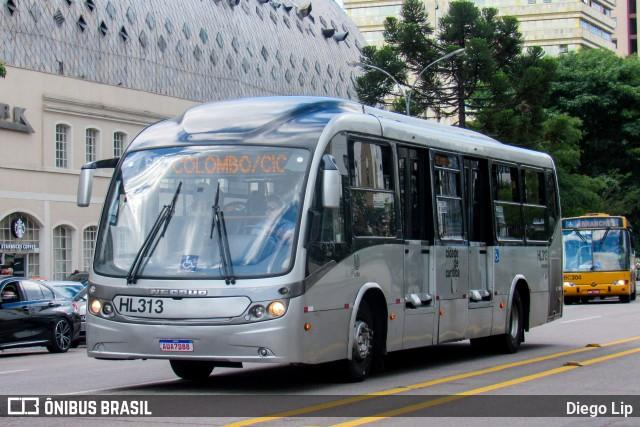COLOMBO CIC: (168, 152, 289, 176)
